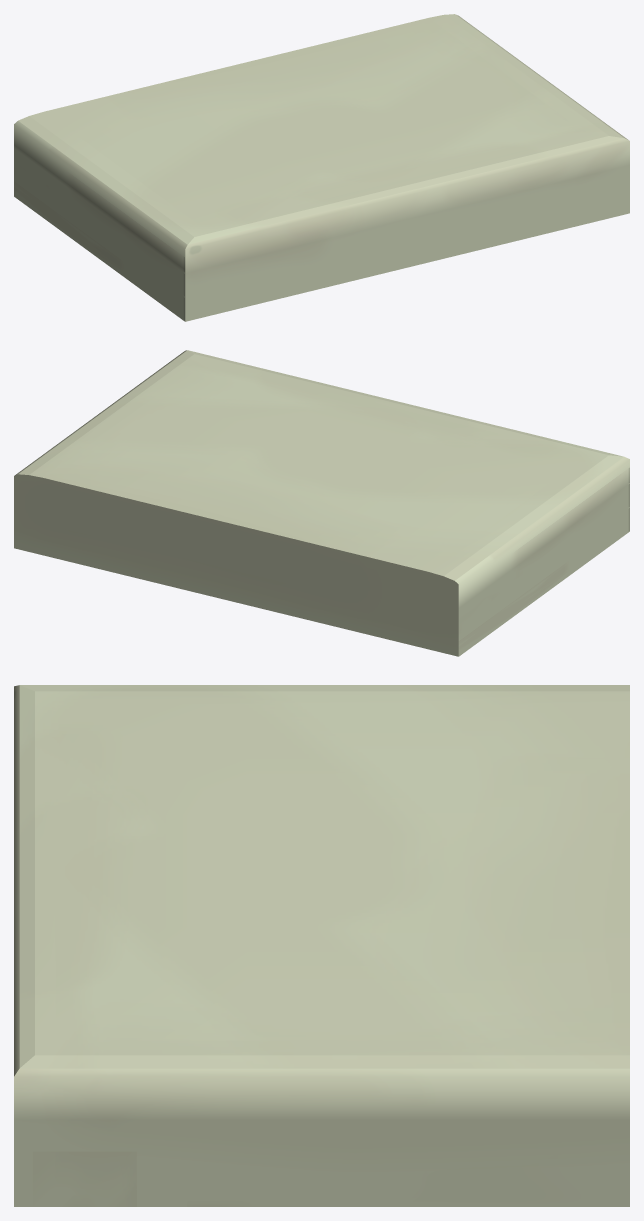
The model's file is cd_drive.fbx.
3 views of the same model, one above another, from view 1: azimuth 30°, elevation 25°; view 2: azimuth 150°, elevation 25°; view 3: azimuth 270°, elevation 25° (orthographic). The views are drawn at different scales.
Parts seen in each view (by area): view 1: Cube; view 2: Cube; view 3: Cube.
Part boxes in pixels (x1,y1,x2,y2): Cube: [14, 14, 629, 321]; Cube: [14, 350, 629, 656]; Cube: [14, 685, 629, 1206].
Size of the model in its own units: 600 by 100 by 400.
